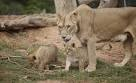lion: (56, 4, 136, 76)
